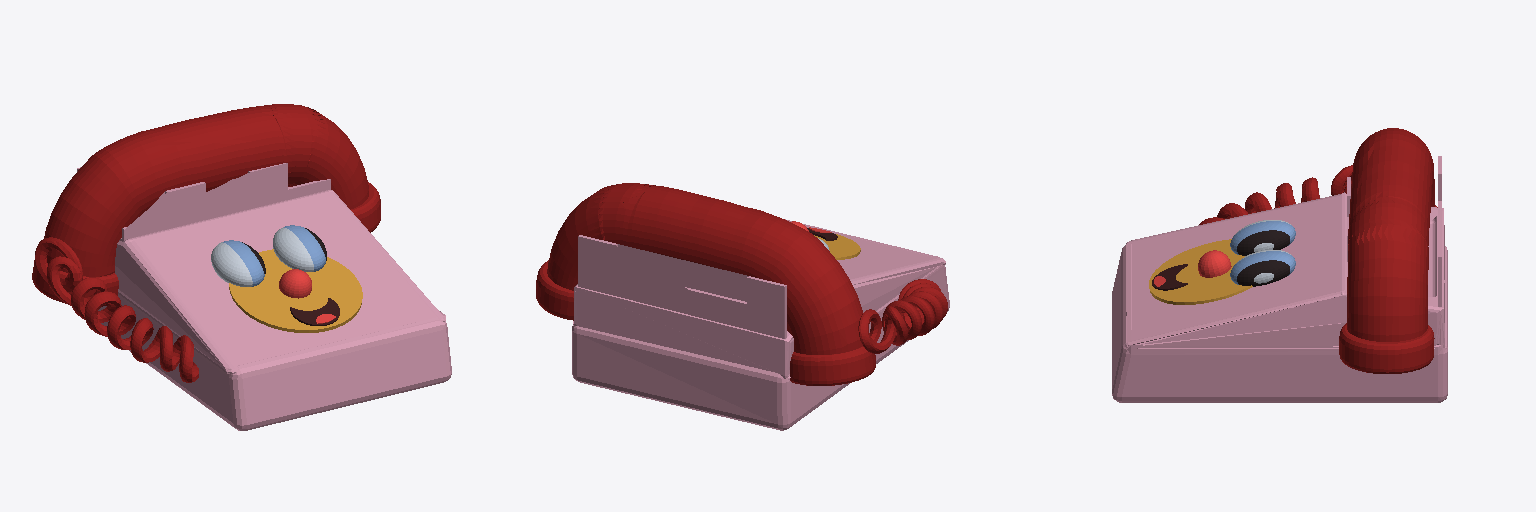
The picture shows the model from 3 angles: view 1: azimuth 30°, elevation 25°; view 2: azimuth 150°, elevation 25°; view 3: azimuth 270°, elevation 25°; orthographic projection.
Visible parts, largest first — view 1: polySurface25; view 2: polySurface25; view 3: polySurface25.
Boxes of the visible parts, <box> form: polySurface25: <box>32,104,451,430</box>; polySurface25: <box>536,183,949,430</box>; polySurface25: <box>1112,128,1447,402</box>.
Bounding box in the file's own units: 2.37 × 1.23 × 2.
7 materials, 6 textured.